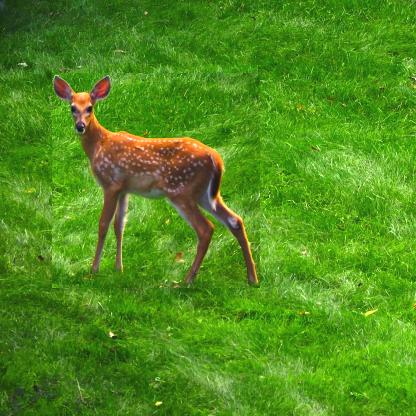Deer: (52, 73, 260, 288)
